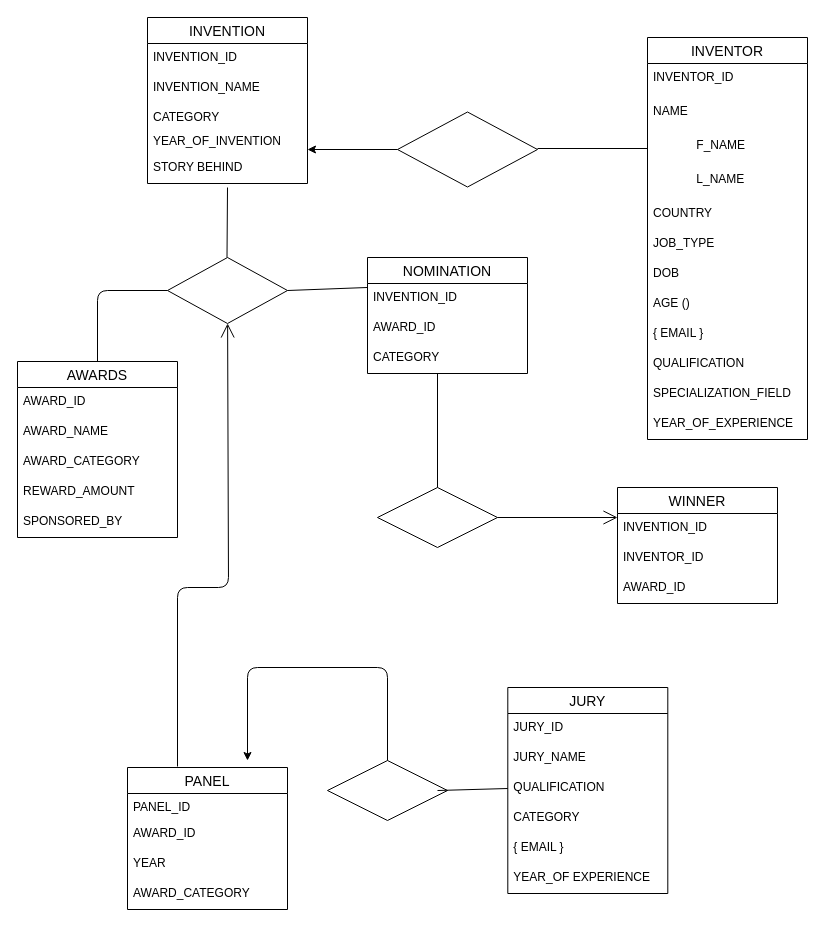
Some shapes in this 825 by 930 pixel diagram are drawn without their labels. The centre of each missing label's shape, as x and y in pixels:
INVENTS: point (467, 149)
MEMBERS: point (387, 790)
NOMINATES: point (227, 290)
SELECT: point (437, 517)
